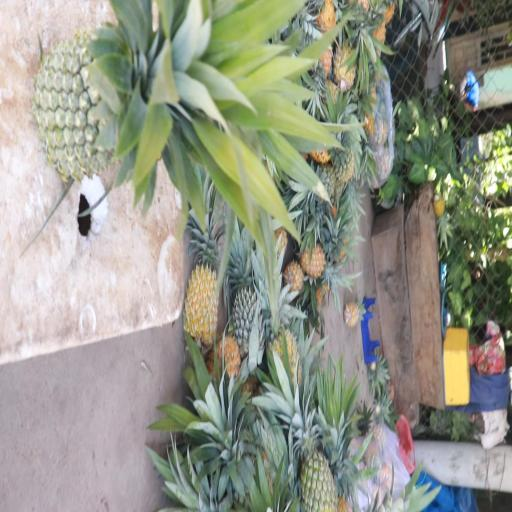------------------------------: (38, 1, 294, 179), (280, 382, 339, 512)
Pineapple - v8 v1: (184, 203, 222, 349), (260, 276, 305, 388), (298, 235, 348, 285)
